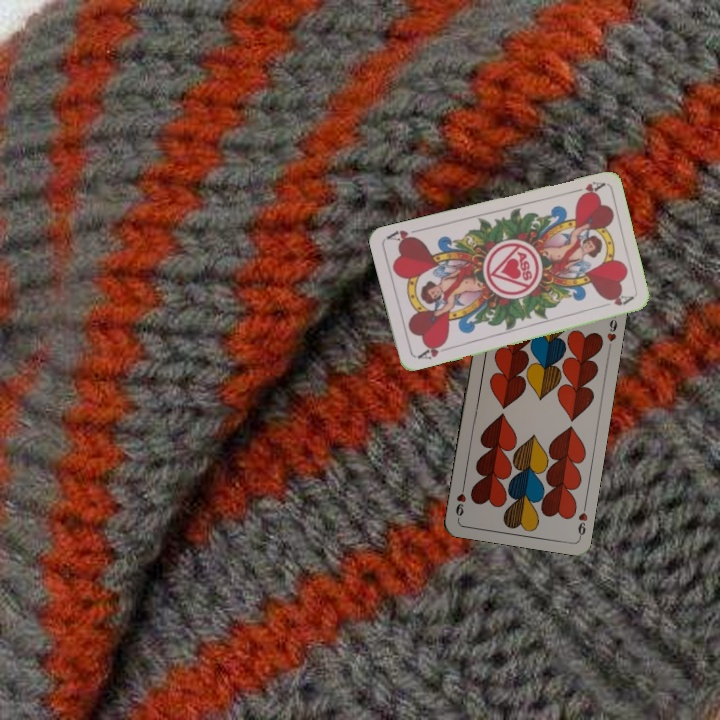H9: (574, 500, 590, 540)
HA: (566, 177, 606, 201), (413, 338, 452, 362)
